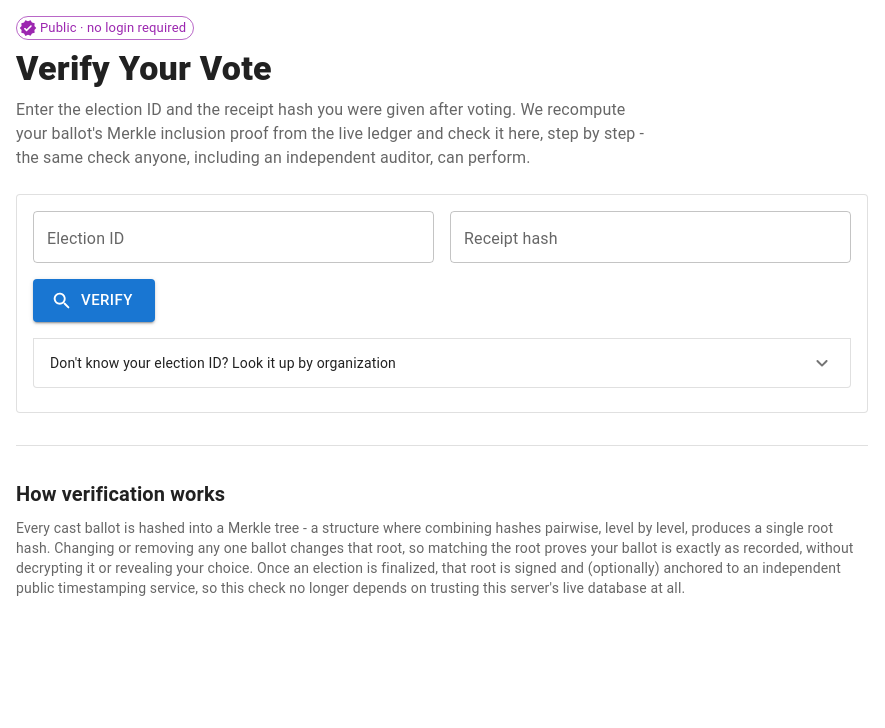
Test: Verify Page › Verification Flow › never renders the candidate name, even though the API returns one
Type "election-1" into the field labelled "Election ID" at [234, 237], box [33,211,434,263]
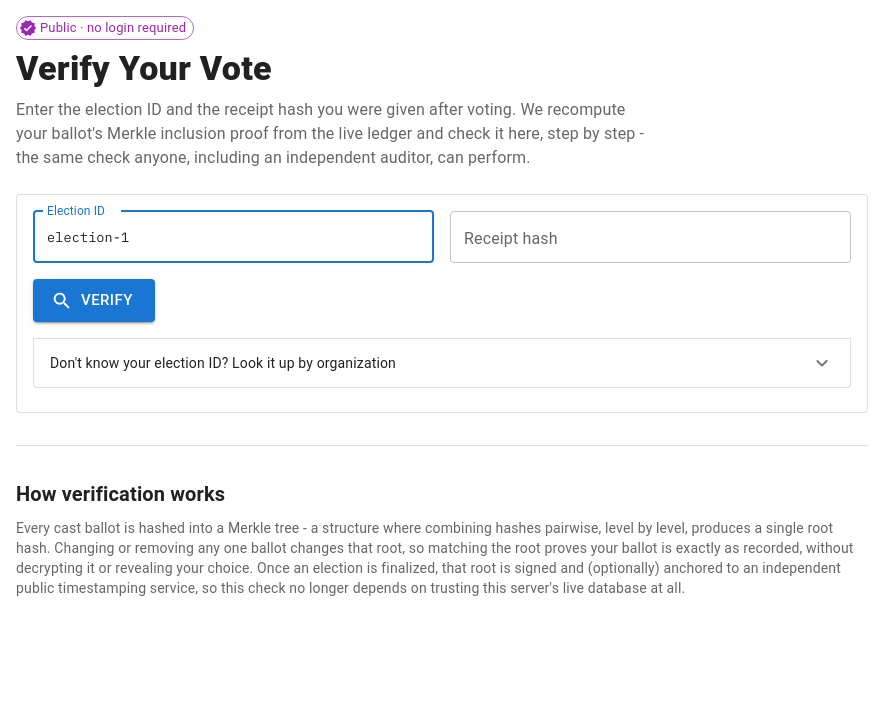
Type "receipt-hash-abc" into the field labelled "Receipt hash" at [650, 237], box [450,211,851,263]
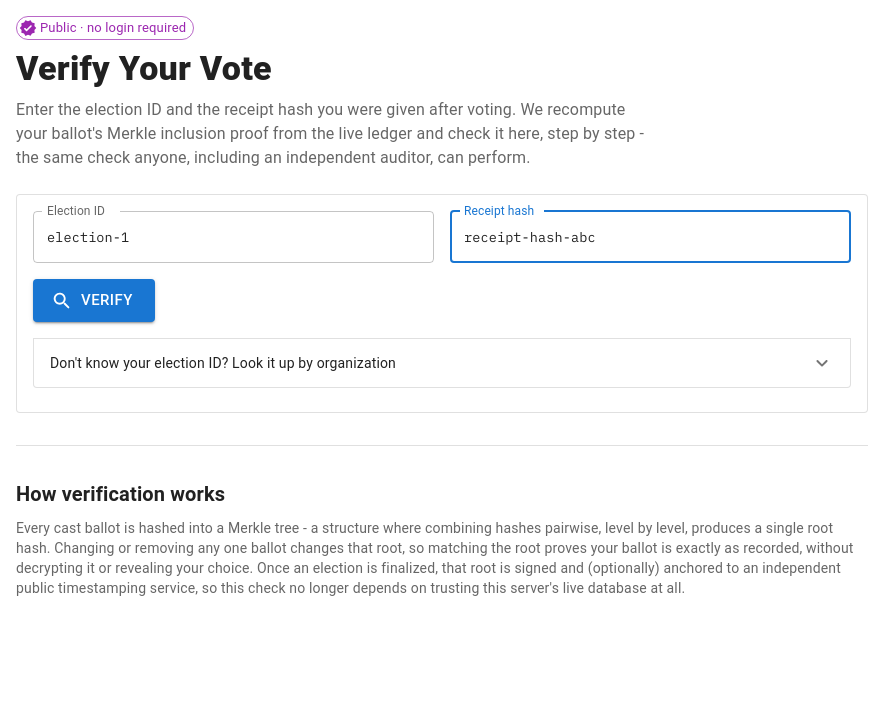
Click the button "Verify" at [94, 301], box [33,279,155,322]
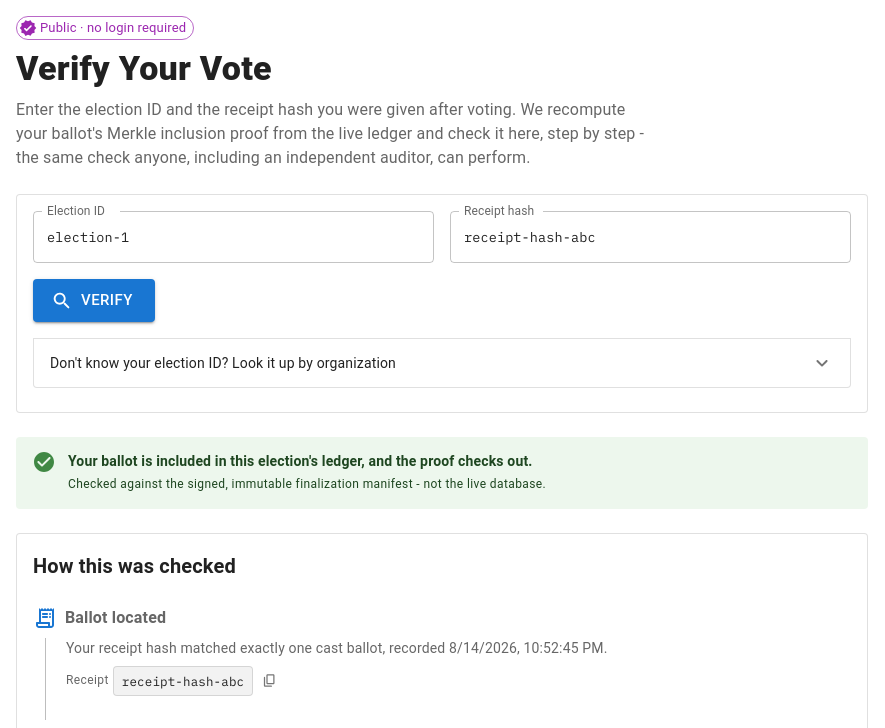
Expected: the text "proof checks out" is shown, [68,453,532,469]
